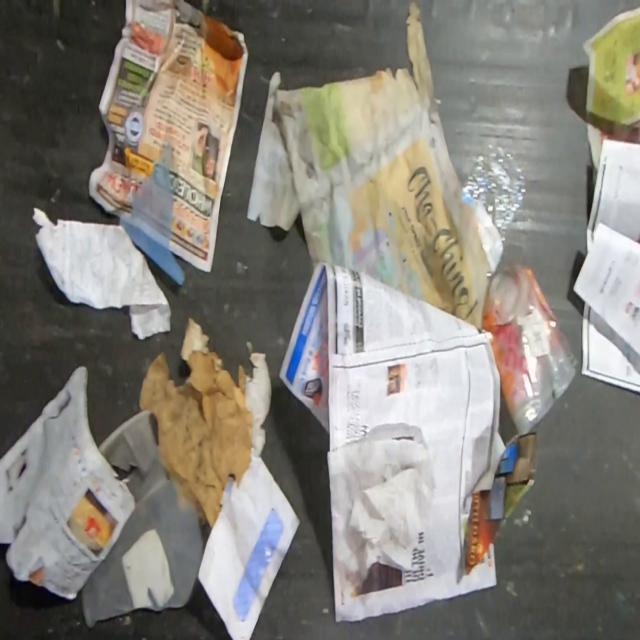cardboard: (138, 315, 273, 532)
rigid_plastic: (79, 410, 206, 630), (480, 261, 580, 437), (461, 142, 527, 288)
soft_plastic: (117, 136, 187, 286)
